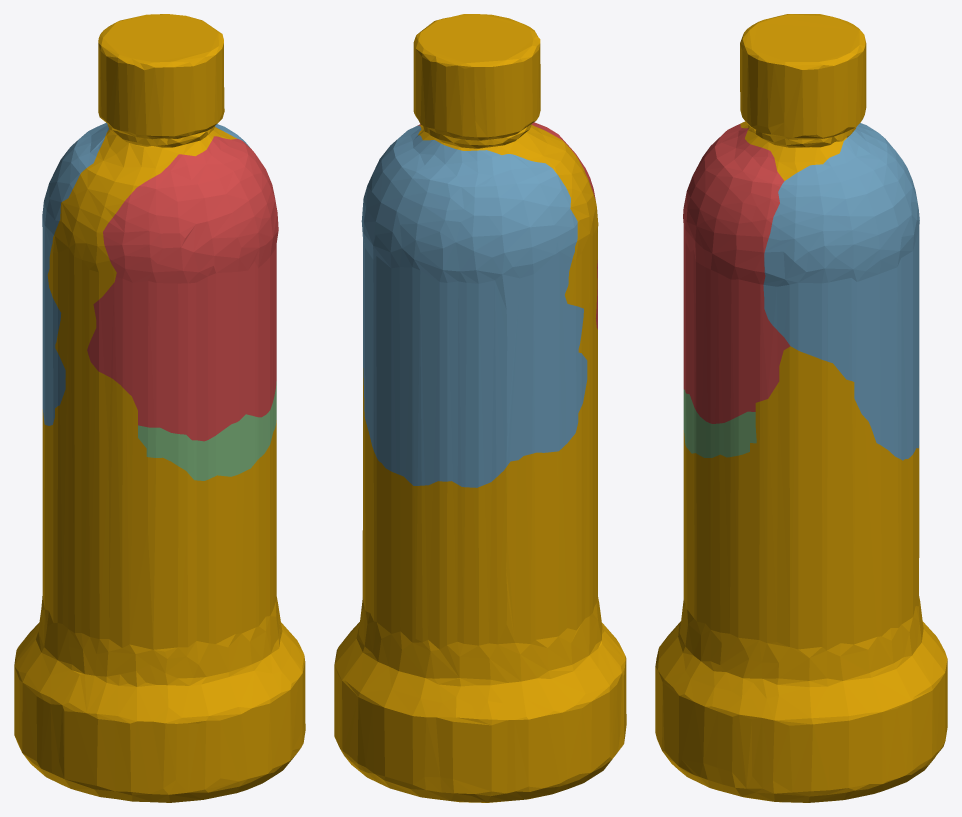
The model's file is mode_6_4pcs.glb.
3 views of the same model, side by side, from view 1: azimuth 30°, elevation 25°; view 2: azimuth 150°, elevation 25°; view 3: azimuth 270°, elevation 25° (orthographic).
Visible parts, largest first — view 1: piece_0.obj, piece_1.obj, piece_2.obj, piece_3.obj; view 2: piece_0.obj, piece_2.obj; view 3: piece_0.obj, piece_2.obj, piece_1.obj, piece_3.obj.
Boxes of the visible parts, left/top/right/bottom form: piece_0.obj: left=14, top=14, right=305, bottom=802; piece_1.obj: left=87, top=136, right=278, bottom=441; piece_2.obj: left=42, top=123, right=249, bottom=425; piece_3.obj: left=138, top=381, right=276, bottom=480; piece_0.obj: left=334, top=14, right=626, bottom=802; piece_2.obj: left=361, top=125, right=587, bottom=487; piece_0.obj: left=655, top=14, right=947, bottom=802; piece_2.obj: left=763, top=123, right=919, bottom=460; piece_1.obj: left=683, top=124, right=790, bottom=423; piece_3.obj: left=683, top=389, right=756, bottom=457.
Size of the model in its own units: 0.3732 by 1 by 0.3731.
